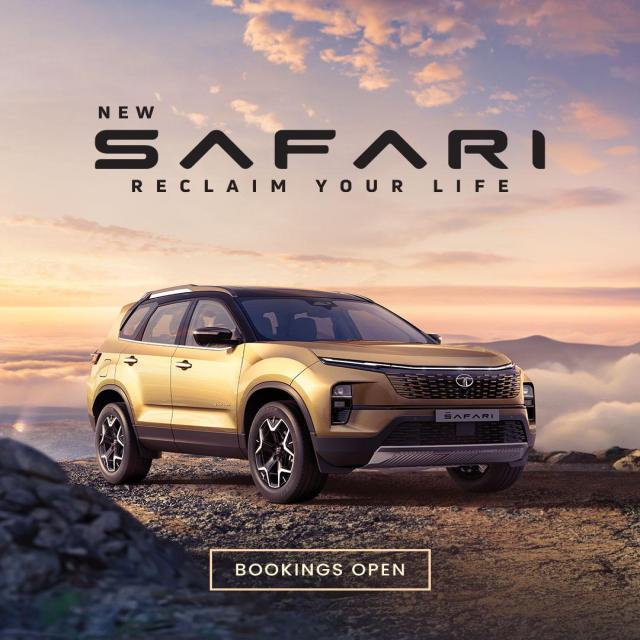cars7: (86, 283, 541, 504)
